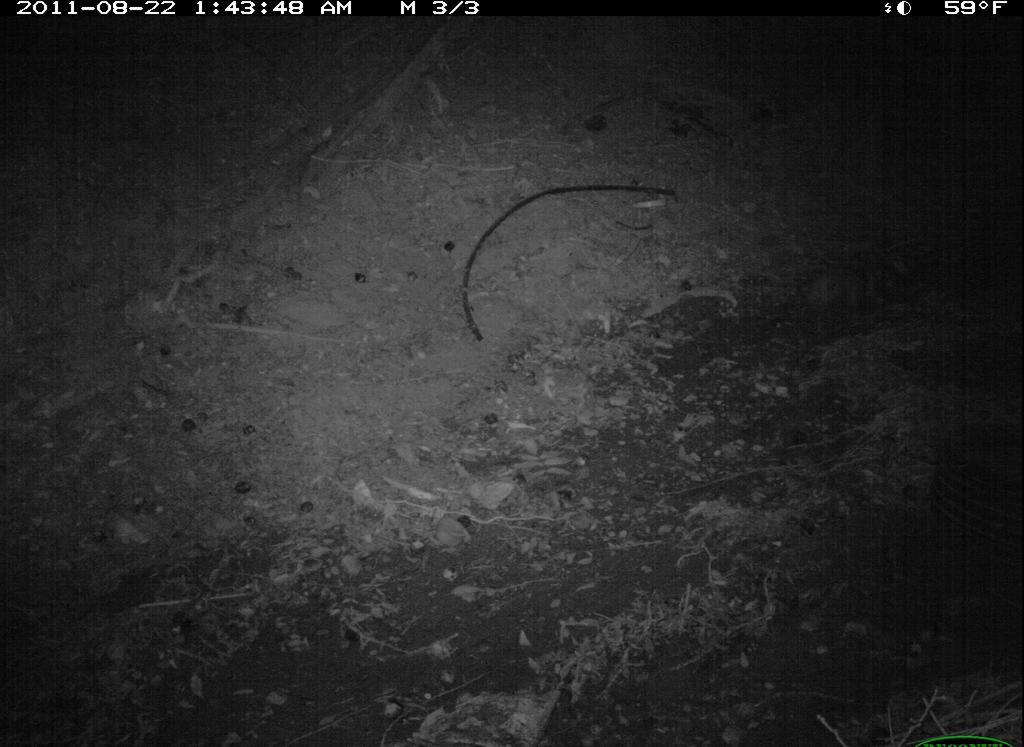opossum: (790, 231, 926, 336)
